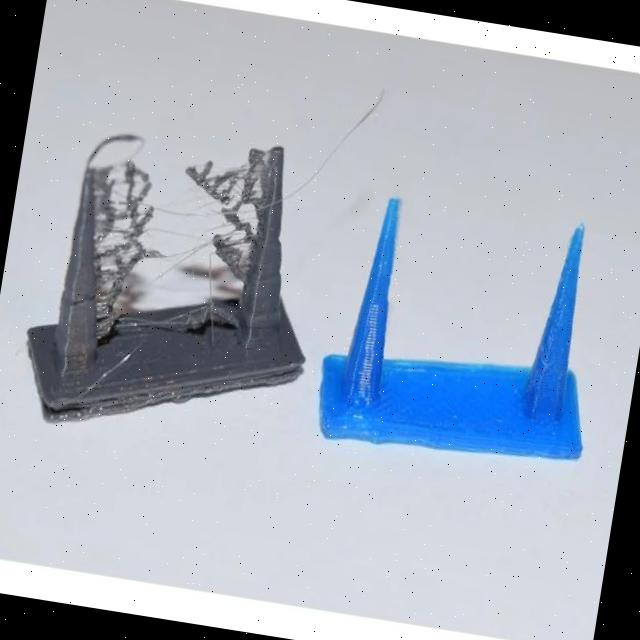stringing: (159, 137, 268, 338), (68, 146, 170, 360)
